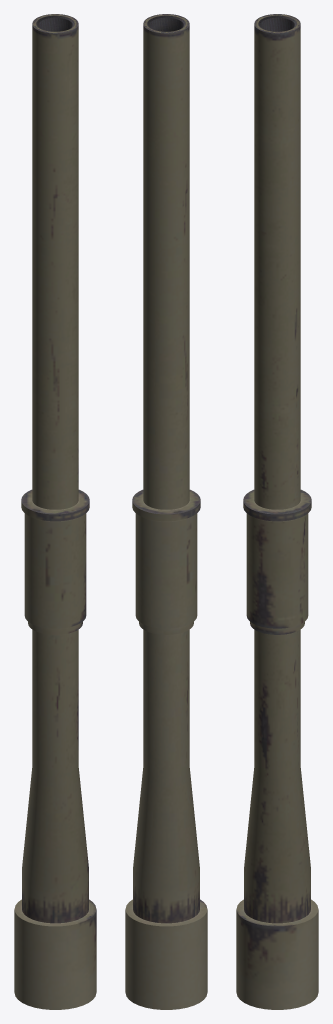
File: Gun_01.glb
The picture shows the model from 3 angles, left to right: view 1: azimuth 90°, elevation 25°; view 2: azimuth 150°, elevation 25°; view 3: azimuth 330°, elevation 25°; orthographic projection.
Visible parts, largest first — view 1: set_0_group_0; view 2: set_0_group_0; view 3: set_0_group_0.
Boxes of the visible parts, bbox=[...] form: set_0_group_0: bbox=[14, 14, 96, 1009]; set_0_group_0: bbox=[125, 14, 207, 1009]; set_0_group_0: bbox=[236, 14, 318, 1009].
Size of the model in its own units: 0.4279 by 5.61 by 0.4303.
1 material, 1 textured.
